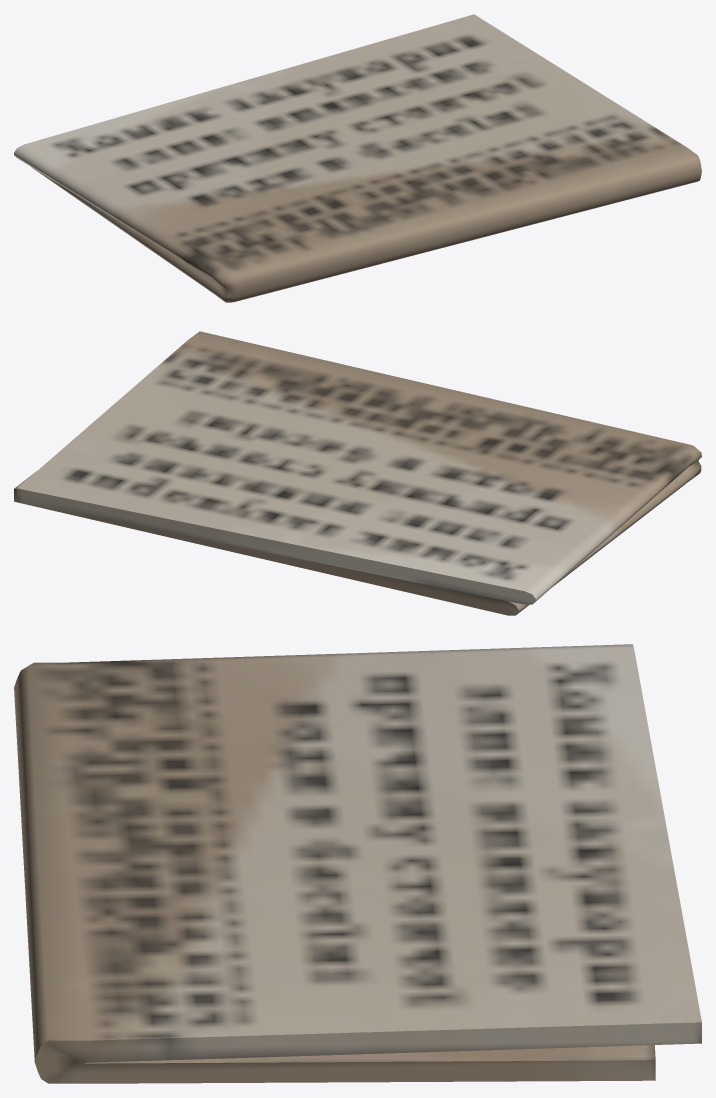
Rendered from Newspaper_Asset.fbx.
The picture shows the model from 3 angles, top to bottom: view 1: azimuth 30°, elevation 25°; view 2: azimuth 150°, elevation 25°; view 3: azimuth 270°, elevation 25°; orthographic projection. The views are drawn at different scales.
Parts seen in each view (by area): view 1: NewsPaper; view 2: NewsPaper; view 3: NewsPaper.
Part boxes in pixels (x1,y1,x2,y2): NewsPaper: [14, 14, 701, 302]; NewsPaper: [14, 331, 701, 615]; NewsPaper: [14, 644, 701, 1083].
Size of the model in its own units: 24.56 by 17.78 by 1.28.
Materials: 1 (1 with a texture image).
